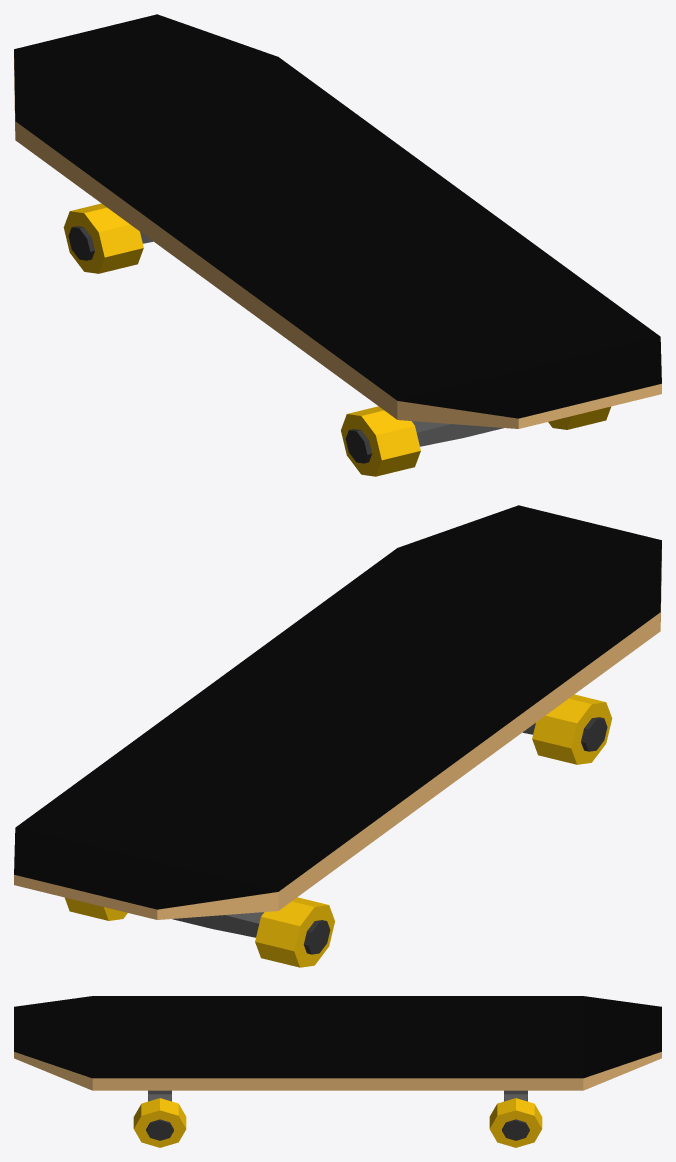
The model's file is Low-Poly_Skateboard_Cartoon.glb.
The picture shows the model from 3 angles, top to bottom: view 1: azimuth 30°, elevation 25°; view 2: azimuth 150°, elevation 25°; view 3: azimuth 270°, elevation 25°; orthographic projection. The views are drawn at different scales.
Visible parts, largest first — view 1: Cube_Material.001_0; view 2: Cube_Material.001_0; view 3: Cube_Material.001_0.
Part boxes in pixels (box(x1,y1,x2,y2)): Cube_Material.001_0: box(14, 14, 661, 476); Cube_Material.001_0: box(14, 505, 661, 967); Cube_Material.001_0: box(14, 996, 661, 1147).
Bounding box in the file's own units: 1.92 × 0.8961 × 6.37.
Materials: 1 (1 with a texture image).
